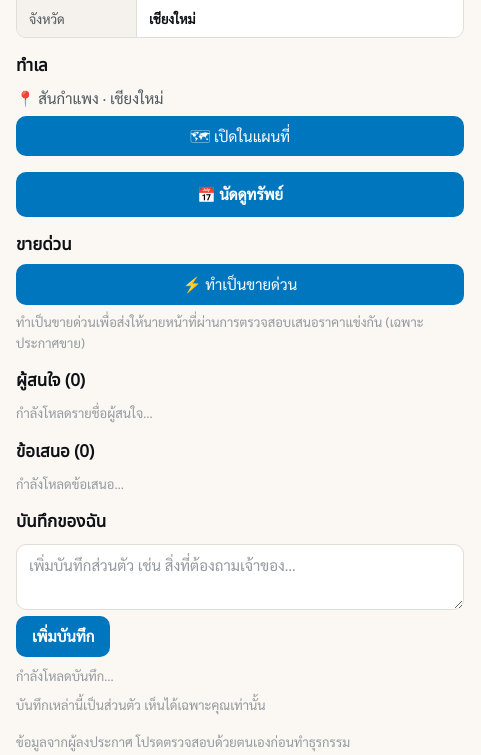
Test: Notes on the detail screen › adds a note (POST), prepending the returned row
(page scrolled)
Type "นัดเจ้าของวันเสาร์" into the text box with placeholder "เพิ่มบันทึกส่วนตัว เช่น สิ่งที่ต้องถามเจ้าของ…" at (240,577), box [16,544,464,610]
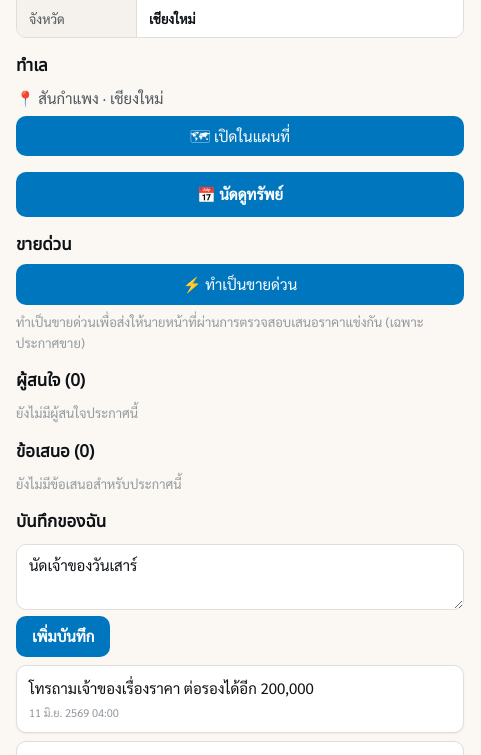
Click the button "เพิ่มบันทึก" at (63,637), box [16,616,110,657]
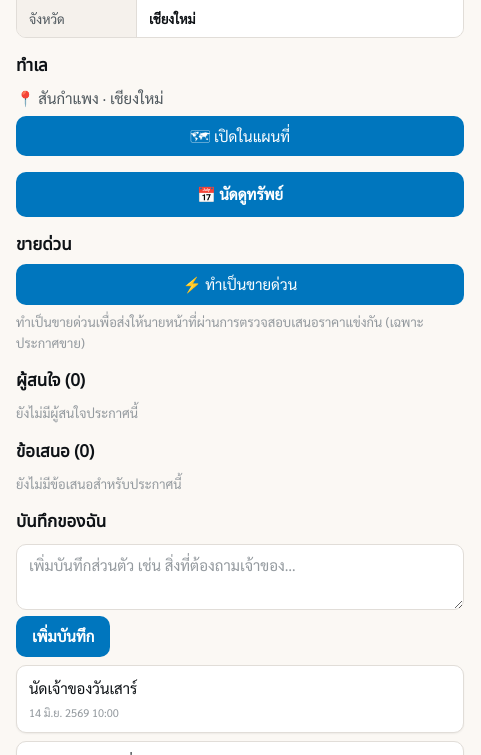
Now the number of list items is 3
Now the text "นัดเจ้าของวันเสาร์" is shown, box [29,678,137,697]
